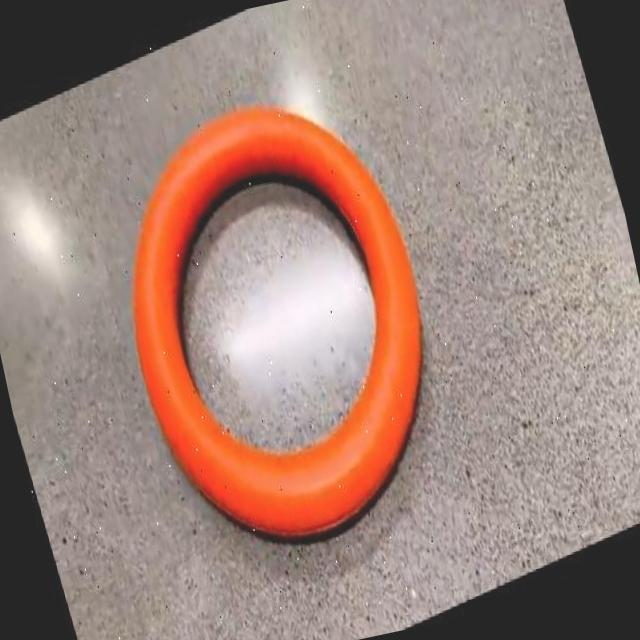note: (132, 105, 419, 535)
